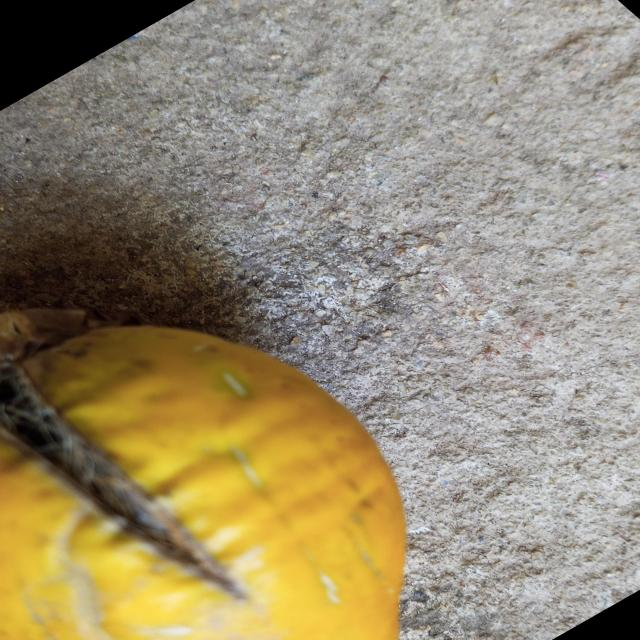damaged: (0, 309, 405, 640)
